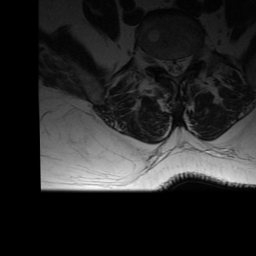CCS_normal: (171, 54, 180, 81)
LFS_normal: (189, 48, 196, 67)
LLS_normal: (180, 49, 188, 75)
RFS_normal: (154, 52, 163, 73)
RLS_normal: (163, 53, 171, 80)
